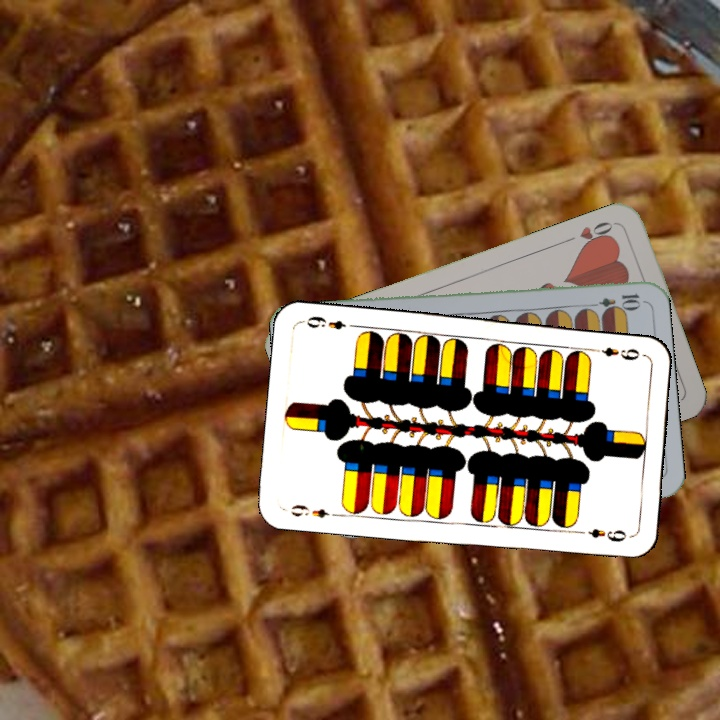E10: (584, 289, 643, 312)
E9: (287, 500, 341, 521), (588, 343, 642, 363)
HO: (561, 217, 618, 251)
